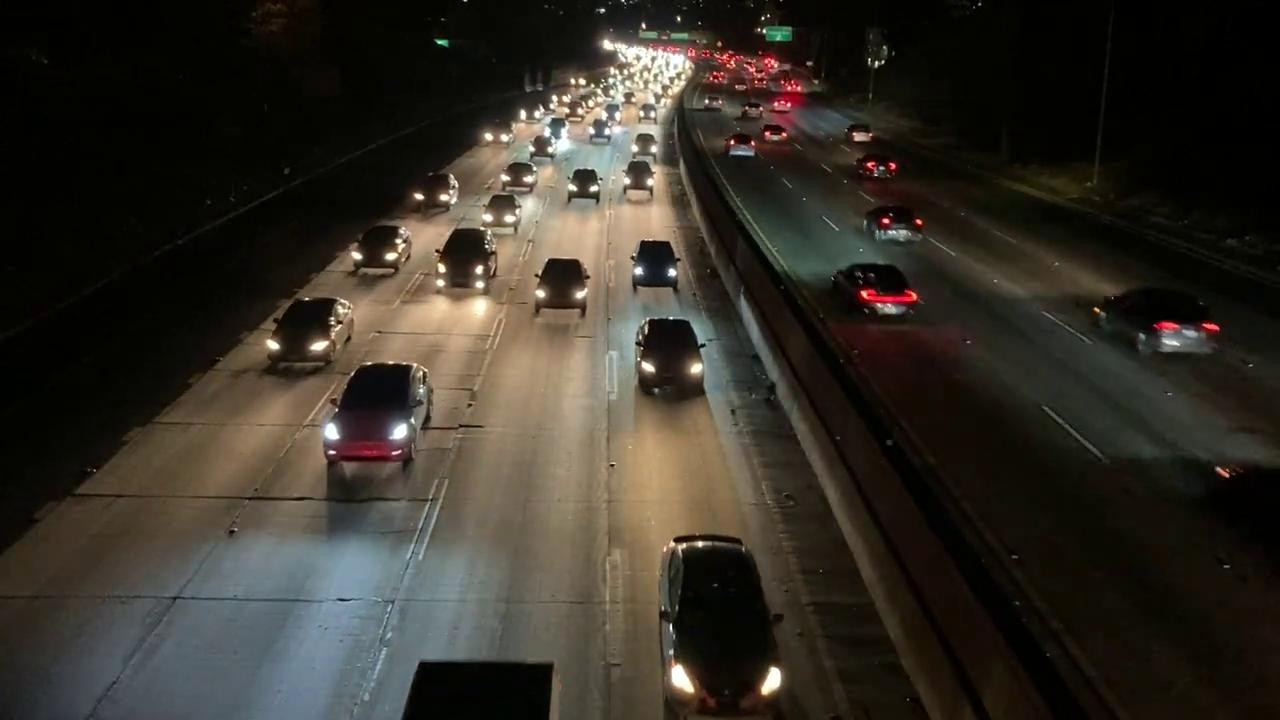car: (654, 528, 792, 720), (406, 660, 570, 720), (328, 362, 432, 449), (265, 296, 359, 375), (634, 315, 710, 395), (830, 265, 924, 318), (432, 226, 500, 291), (534, 255, 592, 314), (355, 227, 416, 276), (631, 239, 684, 294), (1145, 321, 1217, 357), (864, 206, 923, 242), (483, 193, 523, 233), (621, 158, 657, 197), (568, 166, 603, 203), (501, 161, 539, 192), (859, 155, 901, 178), (724, 133, 758, 159), (845, 123, 874, 144), (759, 124, 788, 144)
